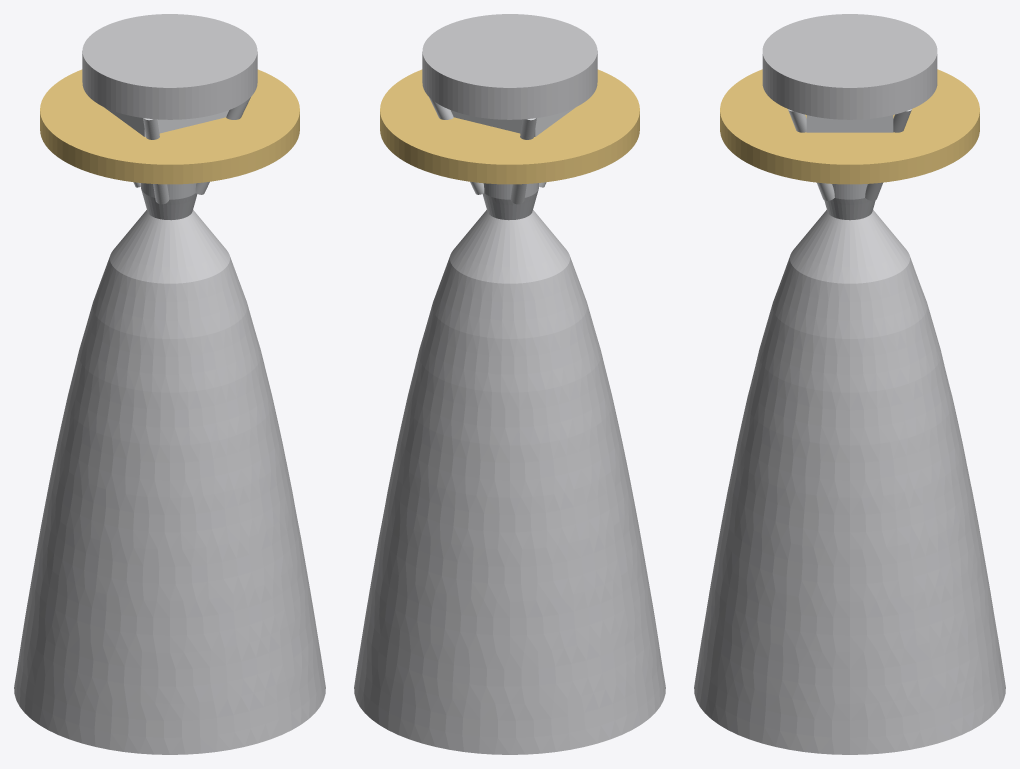
Rendered from prop20_apogee_engine.glb.
The picture shows the model from 3 angles, left to right: view 1: azimuth 30°, elevation 25°; view 2: azimuth 150°, elevation 25°; view 3: azimuth 270°, elevation 25°; orthographic projection.
Visible parts, largest first — view 1: bell, heat_shield, mount, chamber, thrust_struts, valve_block; view 2: bell, heat_shield, mount, chamber, thrust_struts, valve_block; view 3: bell, heat_shield, mount, chamber, valve_block, thrust_struts.
Boxes of the visible parts, <box> form: bell: <box>14,210,325,754</box>; heat_shield: <box>40,69,299,184</box>; mount: <box>82,14,257,119</box>; chamber: <box>141,183,197,220</box>; thrust_struts: <box>133,97,250,204</box>; valve_block: <box>104,107,229,136</box>; bell: <box>354,210,665,754</box>; heat_shield: <box>380,69,639,184</box>; mount: <box>422,14,597,119</box>; chamber: <box>482,183,538,220</box>; thrust_struts: <box>429,97,546,204</box>; valve_block: <box>451,107,575,136</box>; bell: <box>694,210,1005,754</box>; heat_shield: <box>720,69,979,184</box>; mount: <box>762,14,937,119</box>; chamber: <box>824,184,875,220</box>; valve_block: <box>806,115,893,132</box>; thrust_struts: <box>788,109,911,200</box>.
Size of the model in its own units: 0.2878 by 0.65 by 0.2879.
